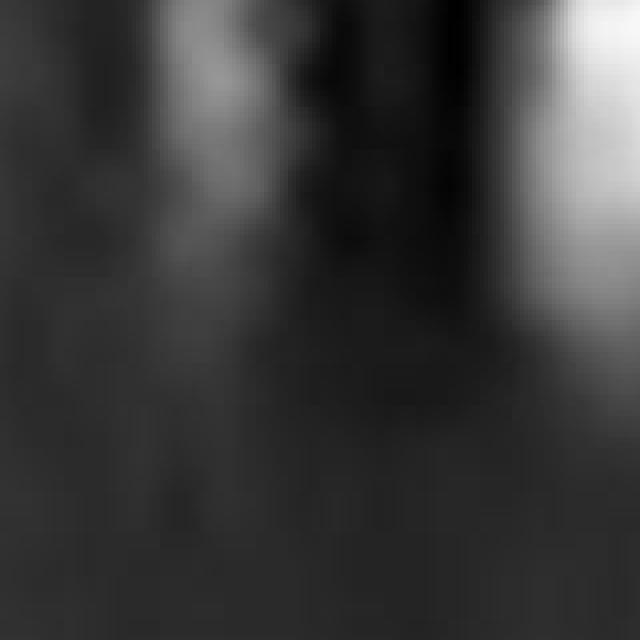person: (117, 1, 317, 481), (509, 1, 640, 433)
